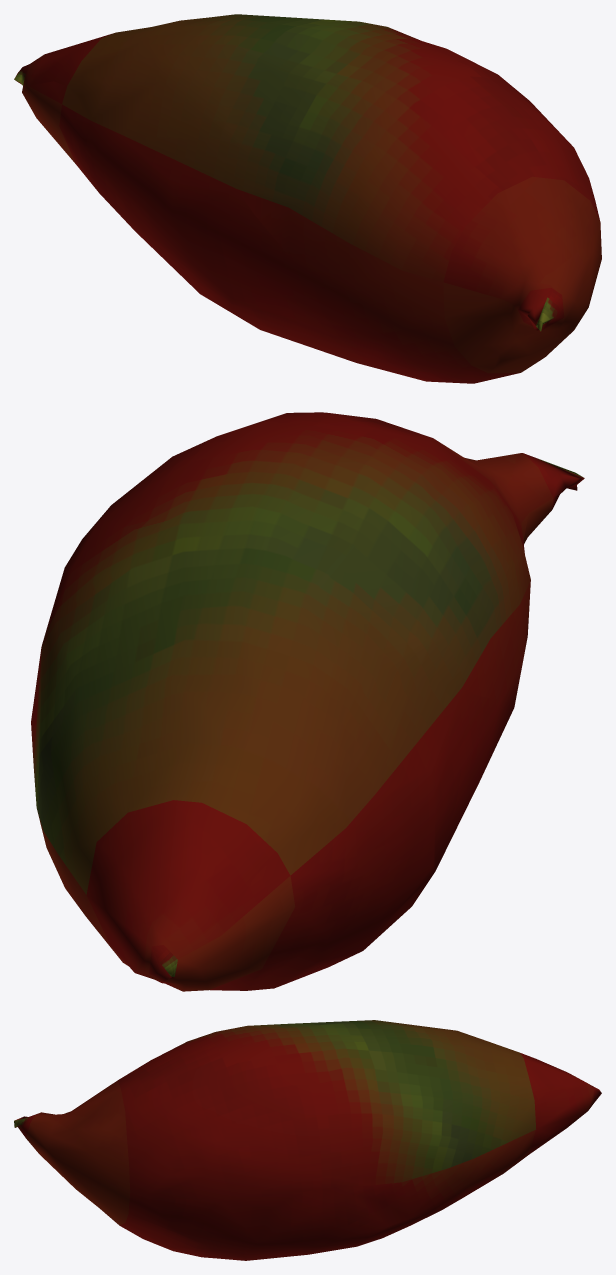
Rendered from ref_potato.fbx.
The picture shows the model from 3 angles, top to bottom: view 1: azimuth 30°, elevation 25°; view 2: azimuth 150°, elevation 25°; view 3: azimuth 270°, elevation 25°; orthographic projection. The views are drawn at different scales.
Visible parts, largest first — view 1: ref_potato; view 2: ref_potato; view 3: ref_potato.
Boxes of the visible parts, left/top/right/bottom form: ref_potato: left=14, top=14, right=601, bottom=383; ref_potato: left=31, top=412, right=584, bottom=991; ref_potato: left=14, top=1020, right=601, bottom=1260.
Bounding box in the file's own units: 45.3 × 41.41 × 100.
